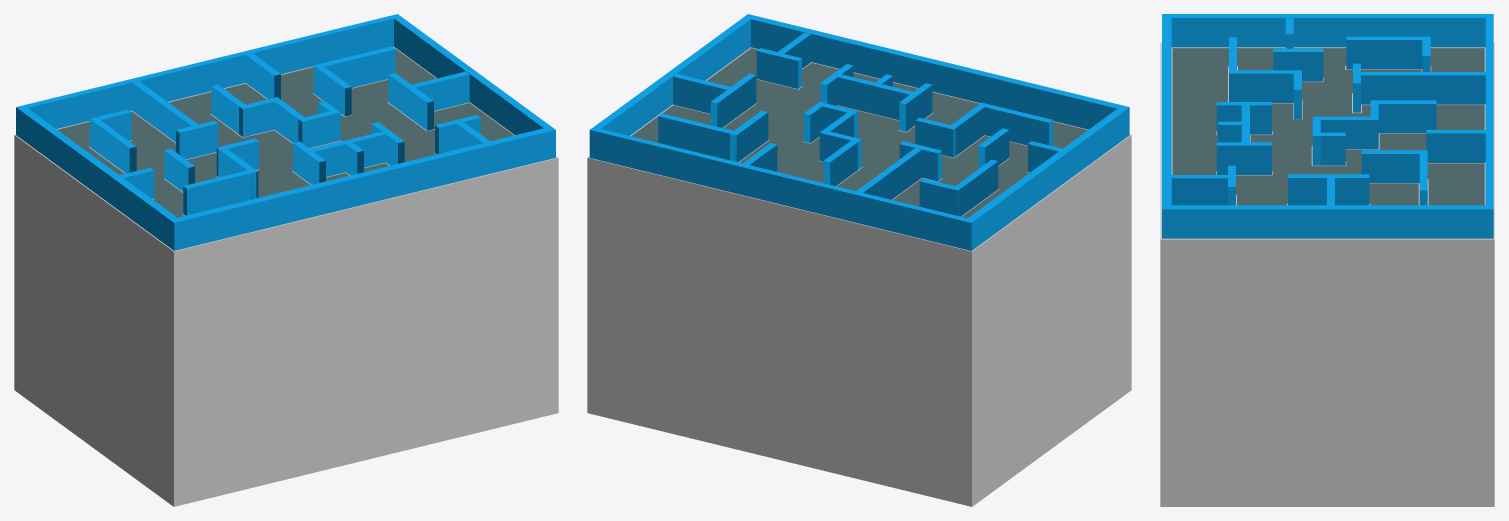
File: Level_4.FBX
3 views of the same model, side by side, from view 1: azimuth 30°, elevation 25°; view 2: azimuth 150°, elevation 25°; view 3: azimuth 270°, elevation 25° (orthographic). The views are drawn at different scales.
Visible parts, largest first — view 1: Level_4; view 2: Level_4; view 3: Level_4.
Boxes of the visible parts, box(x1,y1,x2,y2) form: Level_4: box(14, 14, 558, 506); Level_4: box(587, 14, 1131, 506); Level_4: box(1160, 14, 1494, 506).
Bounding box in the file's own units: 189 × 133 × 136.
